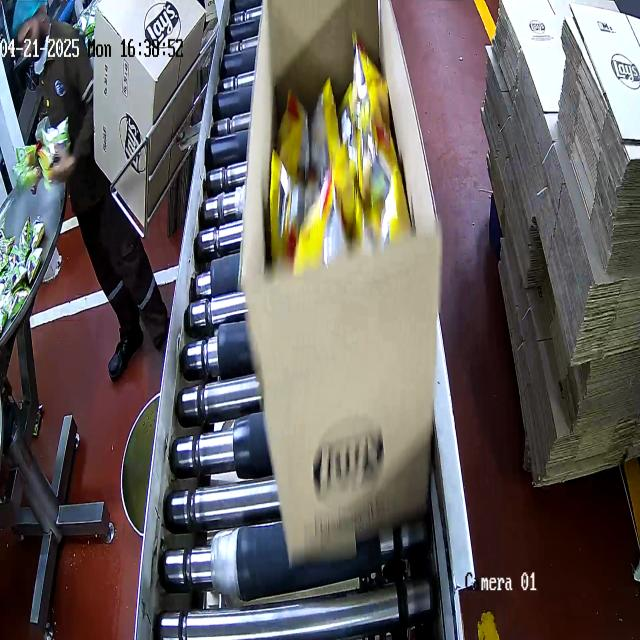SALTED: (266, 46, 412, 268)
